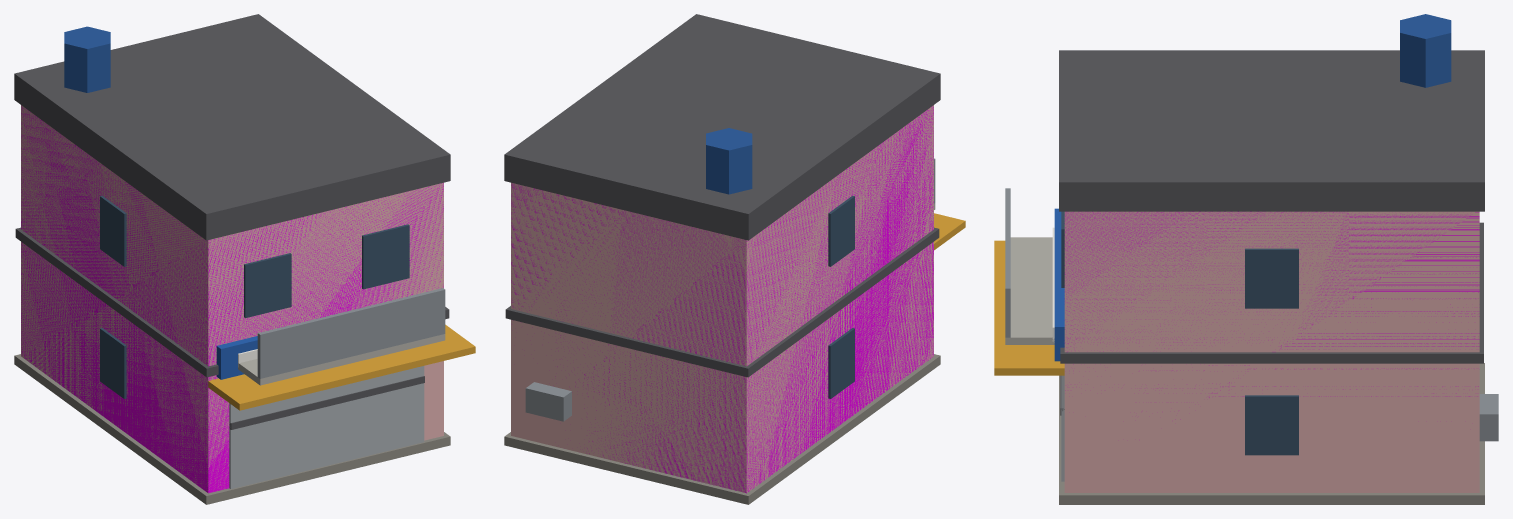
File: MixedUse_2S_02.glb
3 views of the same model, side by side, from view 1: azimuth 30°, elevation 25°; view 2: azimuth 150°, elevation 25°; view 3: azimuth 270°, elevation 25° (orthographic). The views are drawn at different scales.
Visible parts, largest first — view 1: MixedUse_2S_02, MixedUse_2S_02_COL; view 2: MixedUse_2S_02, MixedUse_2S_02_COL; view 3: MixedUse_2S_02, MixedUse_2S_02_COL.
Boxes of the visible parts, box(x1,y1,x2,y2) form: MixedUse_2S_02: box(14, 14, 475, 504); MixedUse_2S_02_COL: box(21, 105, 443, 493); MixedUse_2S_02: box(504, 14, 965, 504); MixedUse_2S_02_COL: box(511, 106, 933, 493); MixedUse_2S_02: box(994, 14, 1498, 504); MixedUse_2S_02_COL: box(1064, 211, 1479, 419).
Size of the model in its own units: 5.8 by 7.6 by 9.35.
